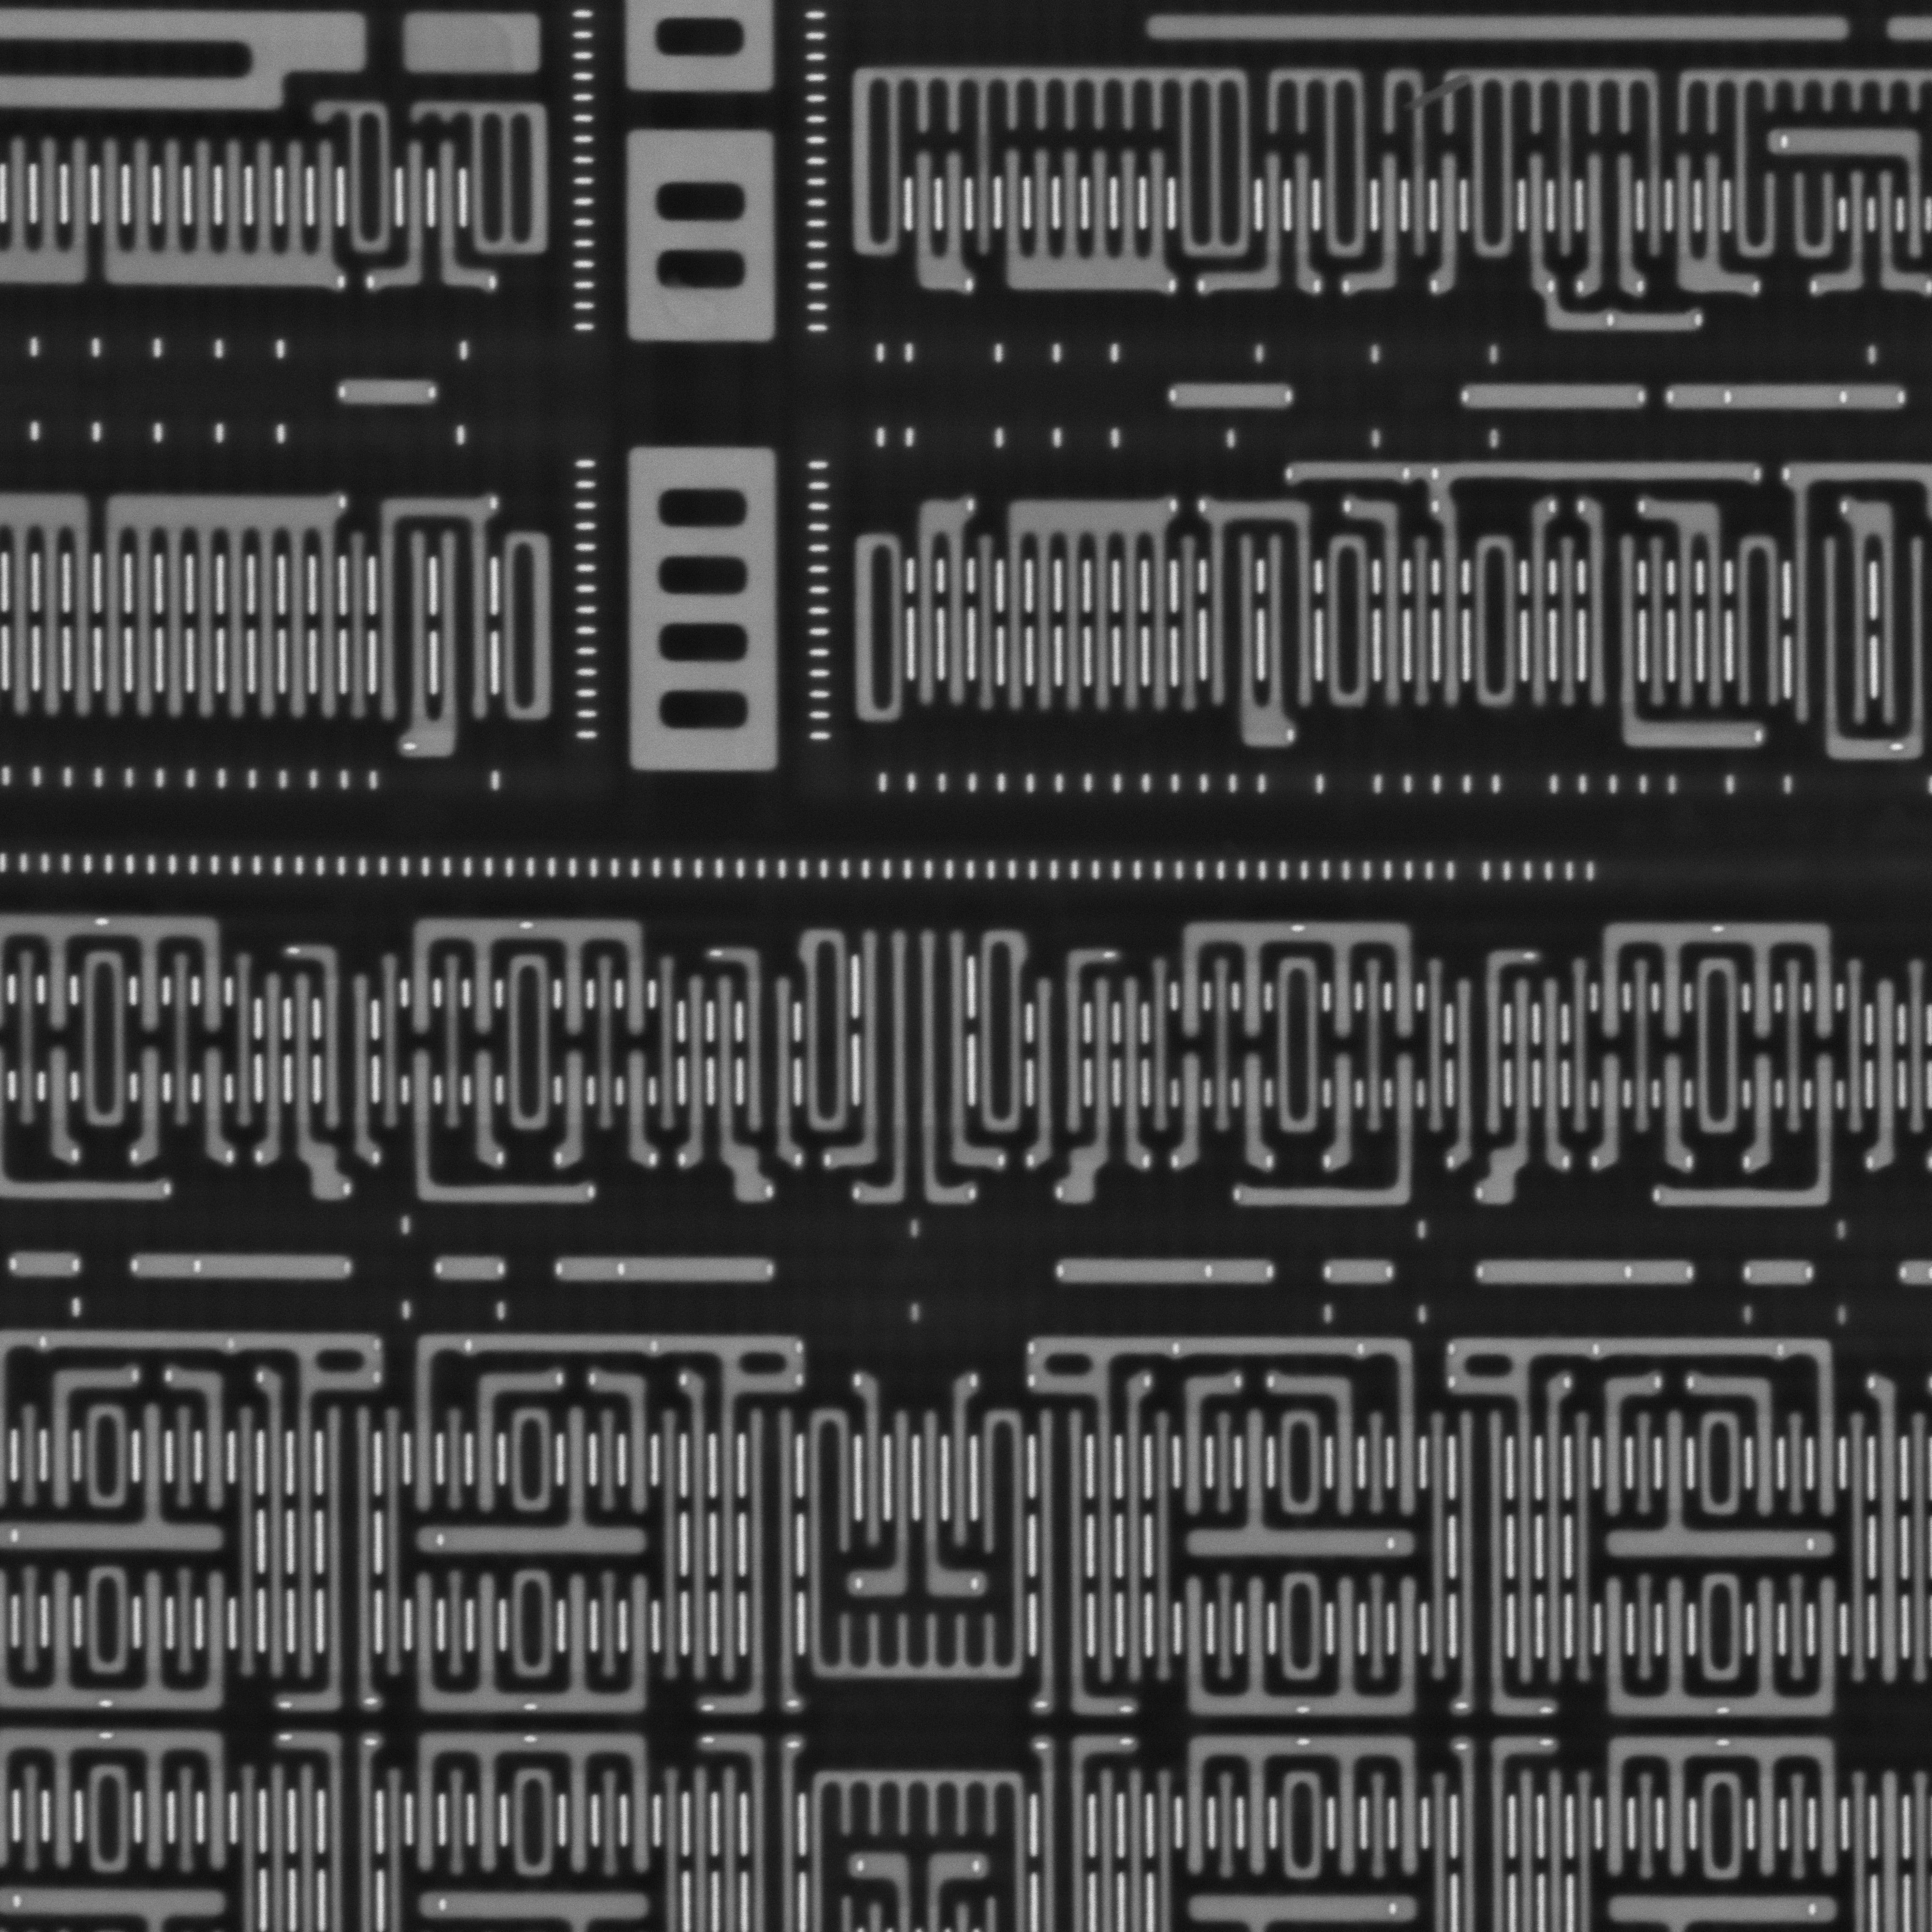doubleGate: (1637, 497, 1736, 709), (904, 487, 975, 713), (1667, 149, 1766, 295), (899, 140, 975, 297)
insideDummy: (626, 442, 782, 773), (625, 126, 777, 340)
multiGate: (88, 483, 347, 720), (996, 492, 1180, 720), (1592, 1727, 1854, 1886), (1173, 1721, 1431, 1879), (99, 133, 349, 294), (403, 1729, 663, 1882), (405, 1560, 662, 1711), (1169, 913, 1426, 1047), (402, 908, 662, 1037), (1589, 915, 1849, 1040), (993, 142, 1180, 297)
publicGate: (828, 925, 1010, 1212), (1569, 494, 1767, 754), (1778, 456, 1932, 763), (364, 481, 502, 761), (1017, 1405, 1141, 1714), (1192, 494, 1325, 755), (276, 1403, 387, 1713), (704, 938, 810, 1164), (285, 938, 386, 1173), (1017, 932, 1118, 1166), (1442, 941, 1541, 1177), (1576, 152, 1651, 297)
singleGate: (1858, 1375, 1916, 1684), (1051, 977, 1127, 1210), (246, 1366, 303, 1675), (281, 970, 356, 1203), (1339, 494, 1415, 715), (1258, 1368, 1368, 1516), (709, 973, 778, 1207), (1479, 977, 1548, 1208), (39, 1362, 143, 1514), (462, 1368, 568, 1516), (911, 1410, 991, 1601), (1532, 1373, 1580, 1684), (1684, 1375, 1790, 1514), (1194, 150, 1293, 297), (676, 1366, 720, 1684), (851, 1410, 922, 1603), (1426, 460, 1474, 724), (426, 140, 499, 295), (161, 1364, 237, 1511), (1587, 1375, 1665, 1518), (1516, 492, 1564, 711), (586, 1369, 658, 1509), (368, 140, 437, 287), (1346, 150, 1410, 303), (840, 1366, 893, 1546), (1806, 165, 1875, 303), (1863, 973, 1909, 1180), (1175, 1368, 1242, 1507), (1532, 977, 1578, 1180), (934, 1369, 984, 1552), (1867, 163, 1932, 295), (1111, 971, 1154, 1175), (251, 968, 292, 1173), (1514, 150, 1560, 327), (676, 970, 713, 1175), (39, 1035, 90, 1173), (126, 1039, 173, 1180), (1651, 1049, 1700, 1180), (1231, 1047, 1283, 1173), (1284, 150, 1327, 299), (1428, 150, 1472, 292), (1587, 1049, 1633, 1182), (193, 1042, 239, 1173), (1318, 1047, 1366, 1173), (465, 1042, 511, 1166), (1168, 1049, 1214, 1171), (616, 1047, 660, 1173), (1741, 1049, 1783, 1175)
